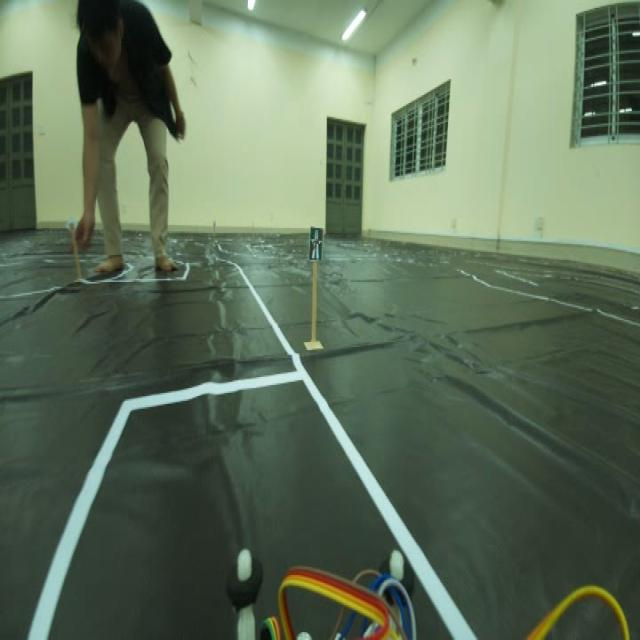highway_exit: (306, 220, 330, 271)
